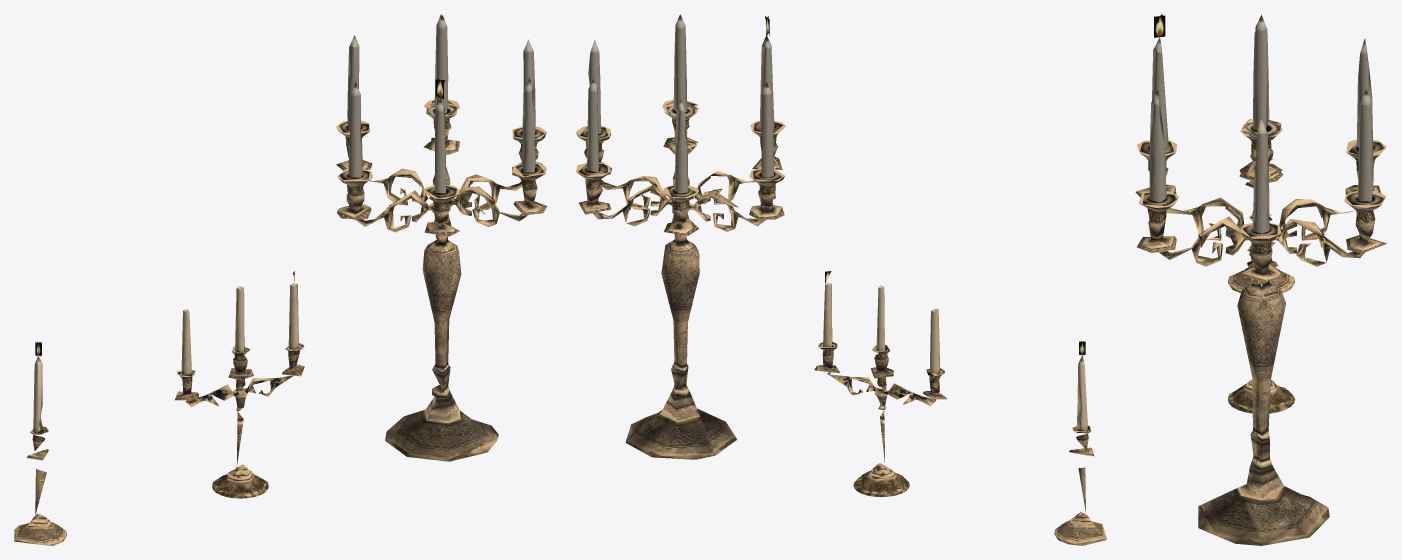
Rendered from brass_candleholders.glb.
The picture shows the model from 3 angles, left to right: view 1: azimuth 30°, elevation 25°; view 2: azimuth 150°, elevation 25°; view 3: azimuth 270°, elevation 25°; orthographic projection. The views are drawn at different scales.
Parts seen in each view (by area): view 1: brass_candleholder_03, brass_candleholder_02, brass_candleholder_01; view 2: brass_candleholder_03, brass_candleholder_02, brass_candleholder_01; view 3: brass_candleholder_03, brass_candleholder_02, brass_candleholder_01.
Boxes of the visible parts, <box> form: brass_candleholder_03: <box>336,14,547,461</box>; brass_candleholder_02: <box>175,271,304,498</box>; brass_candleholder_01: <box>14,342,66,545</box>; brass_candleholder_03: <box>576,14,785,459</box>; brass_candleholder_02: <box>814,271,946,497</box>; brass_candleholder_01: <box>1054,341,1106,545</box>; brass_candleholder_03: <box>1135,14,1386,545</box>; brass_candleholder_02: <box>1228,214,1294,413</box>; brass_candleholder_01: <box>1228,155,1294,293</box>.
Bounding box in the file's own units: 1.05 × 0.8018 × 0.3644.
Materials: 5 (5 with a texture image).
